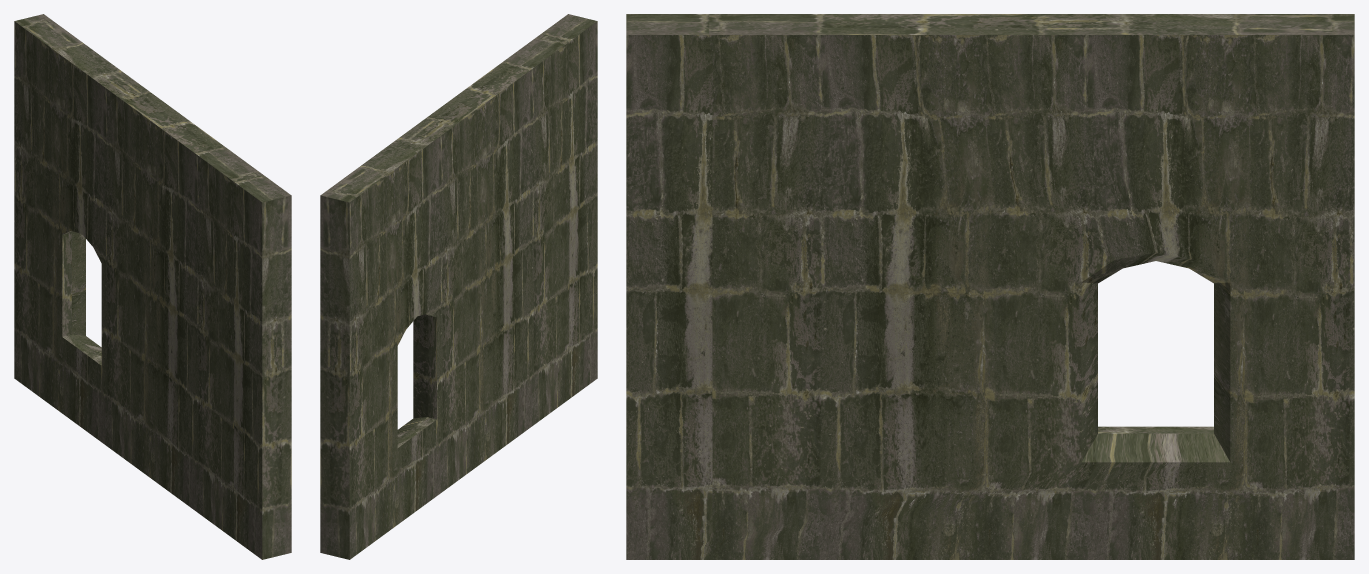
File: Wall_Window_R.fbx
3 renders of one model, left to right at view 1: azimuth 30°, elevation 25°; view 2: azimuth 150°, elevation 25°; view 3: azimuth 270°, elevation 25°, orthographic. The views are drawn at different scales.
Visible parts, largest first — view 1: Wall_Window_R; view 2: Wall_Window_R; view 3: Wall_Window_R.
Boxes of the visible parts, <box> form: Wall_Window_R: <box>14,14,291,559</box>; Wall_Window_R: <box>320,14,597,559</box>; Wall_Window_R: <box>626,14,1354,559</box>.
Bounding box in the file's own units: 51 × 595 × 748.
